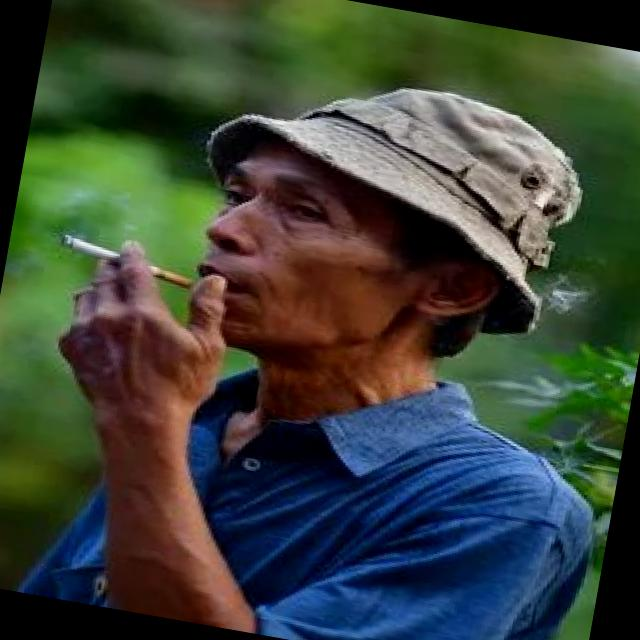smoke: (46, 228, 208, 300)
